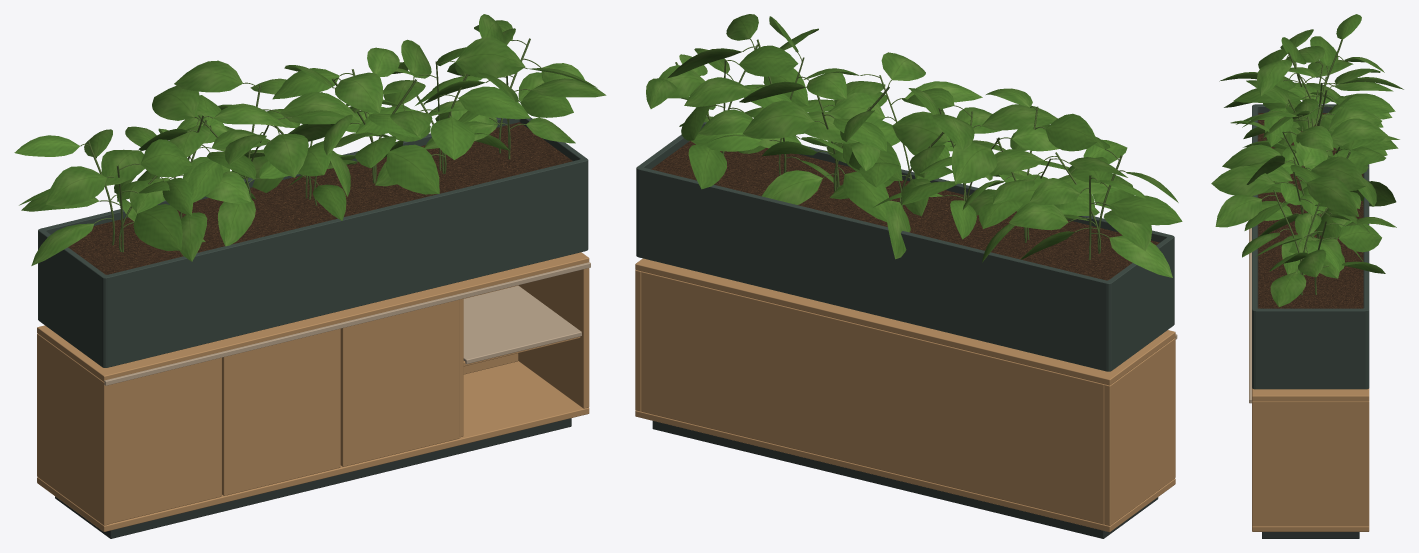
File: botanicalDivider-10.glb
The picture shows the model from 3 angles, left to right: view 1: azimuth 30°, elevation 25°; view 2: azimuth 150°, elevation 25°; view 3: azimuth 270°, elevation 25°; orthographic projection. The views are drawn at different scales.
Parts seen in each view (by area): view 1: Planter_pothos_leaves, Planter_oiled_oak, StoragePlanter_Door (×3), StoragePlanter_Side (×2), Planter_loose_soil, StoragePlanter_Bottom, StoragePlanter_Top, StoragePlanter_OpenShelf, StoragePlanter_Plinth, Planter_pothos_stems, StoragePlanter_AccentRail, Planter_matte_accent (+1 smaller); view 2: StoragePlanter_Back, Planter_pothos_leaves, Planter_oiled_oak, Planter_loose_soil, StoragePlanter_Side (×2), StoragePlanter_Top, StoragePlanter_Plinth, Planter_matte_accent, StoragePlanter_Bottom, Planter_pothos_stems; view 3: Planter_pothos_leaves, StoragePlanter_Side, Planter_oiled_oak, Planter_loose_soil, Planter_pothos_stems, StoragePlanter_Top, StoragePlanter_Bottom, StoragePlanter_Plinth, StoragePlanter_AccentRail.
Part boxes in pixels (<box>): Planter_pothos_leaves: <box>14,14,606,265</box>; Planter_oiled_oak: <box>38,117,588,367</box>; StoragePlanter_Door (×3): <box>105,299,459,523</box>; StoragePlanter_Side (×2): <box>37,268,589,525</box>; Planter_loose_soil: <box>68,122,572,274</box>; StoragePlanter_Bottom: <box>37,361,589,531</box>; StoragePlanter_Top: <box>37,252,589,381</box>; StoragePlanter_OpenShelf: <box>463,285,581,363</box>; StoragePlanter_Plinth: <box>55,418,571,538</box>; Planter_pothos_stems: <box>80,38,541,252</box>; StoragePlanter_AccentRail: <box>104,262,590,385</box>; Planter_matte_accent: <box>113,225,577,340</box>; StoragePlanter_Back: <box>641,271,1104,524</box>; Planter_pothos_leaves: <box>646,14,1182,277</box>; Planter_oiled_oak: <box>636,122,1174,371</box>; Planter_loose_soil: <box>651,140,1159,280</box>; StoragePlanter_Side (×2): <box>635,270,1175,525</box>; StoragePlanter_Top: <box>635,258,1175,385</box>; StoragePlanter_Plinth: <box>652,421,1158,538</box>; Planter_matte_accent: <box>645,240,1102,352</box>; StoragePlanter_Bottom: <box>635,410,1175,532</box>; Planter_pothos_stems: <box>675,39,1125,259</box>; Planter_pothos_leaves: <box>1211,14,1403,307</box>; StoragePlanter_Side: <box>1252,401,1369,526</box>; Planter_oiled_oak: <box>1252,104,1369,389</box>; Planter_loose_soil: <box>1258,113,1363,308</box>; Planter_pothos_stems: <box>1262,39,1350,295</box>; StoragePlanter_Top: <box>1252,388,1369,401</box>; StoragePlanter_Bottom: <box>1252,526,1369,531</box>; StoragePlanter_Plinth: <box>1262,532,1359,538</box>; StoragePlanter_AccentRail: <box>1249,228,1251,403</box>.
Bounding box in the file's own units: 2.26 × 1.58 × 0.7924.
10 materials, 2 textured.
